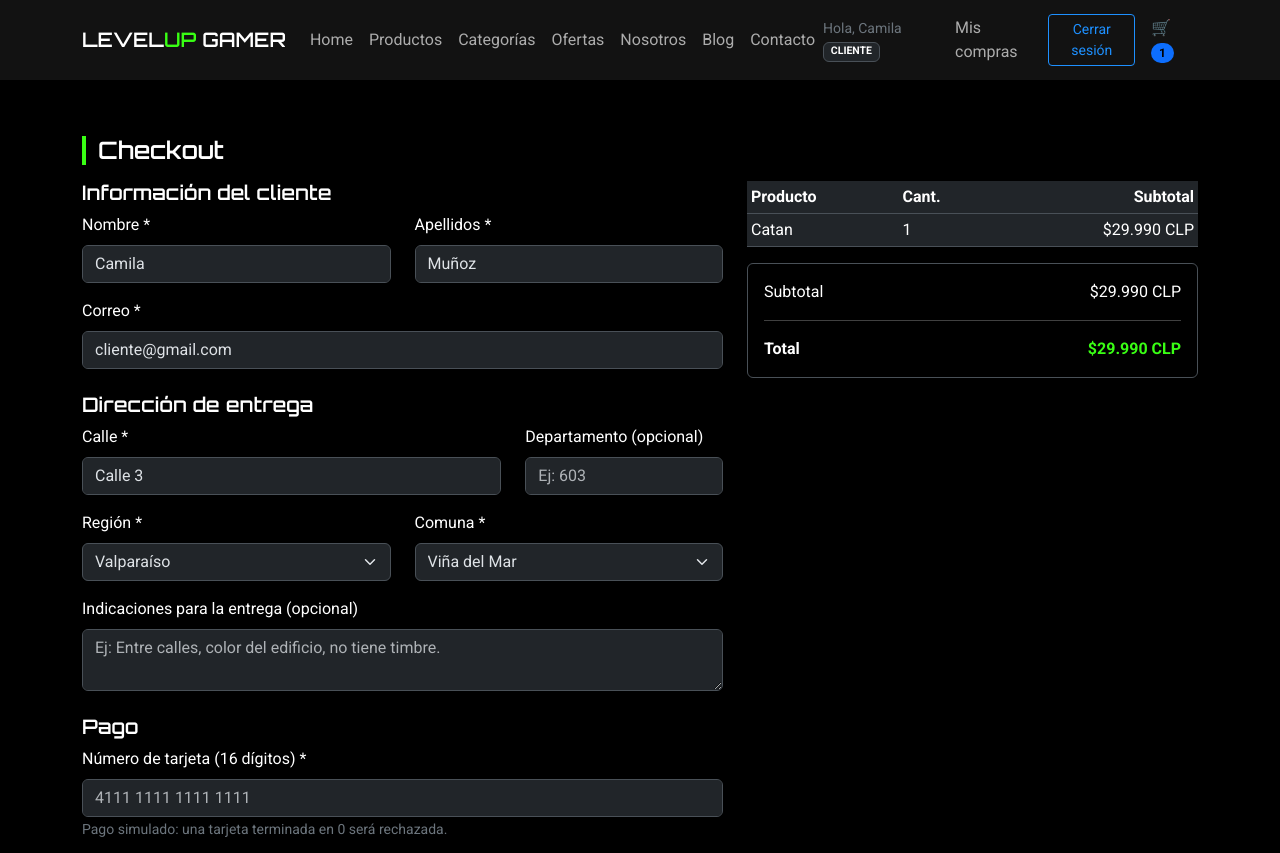
Test: Checkout contra la API › si el backend responde sin stock, se queda en el checkout con el mensaje
The width and height of the screenshot is (1280, 853).
In the field labelled "Número de tarjeta (16 dígitos) *": (402, 798) [82, 779, 723, 817], type "4111111111111111"
(page scrolled)
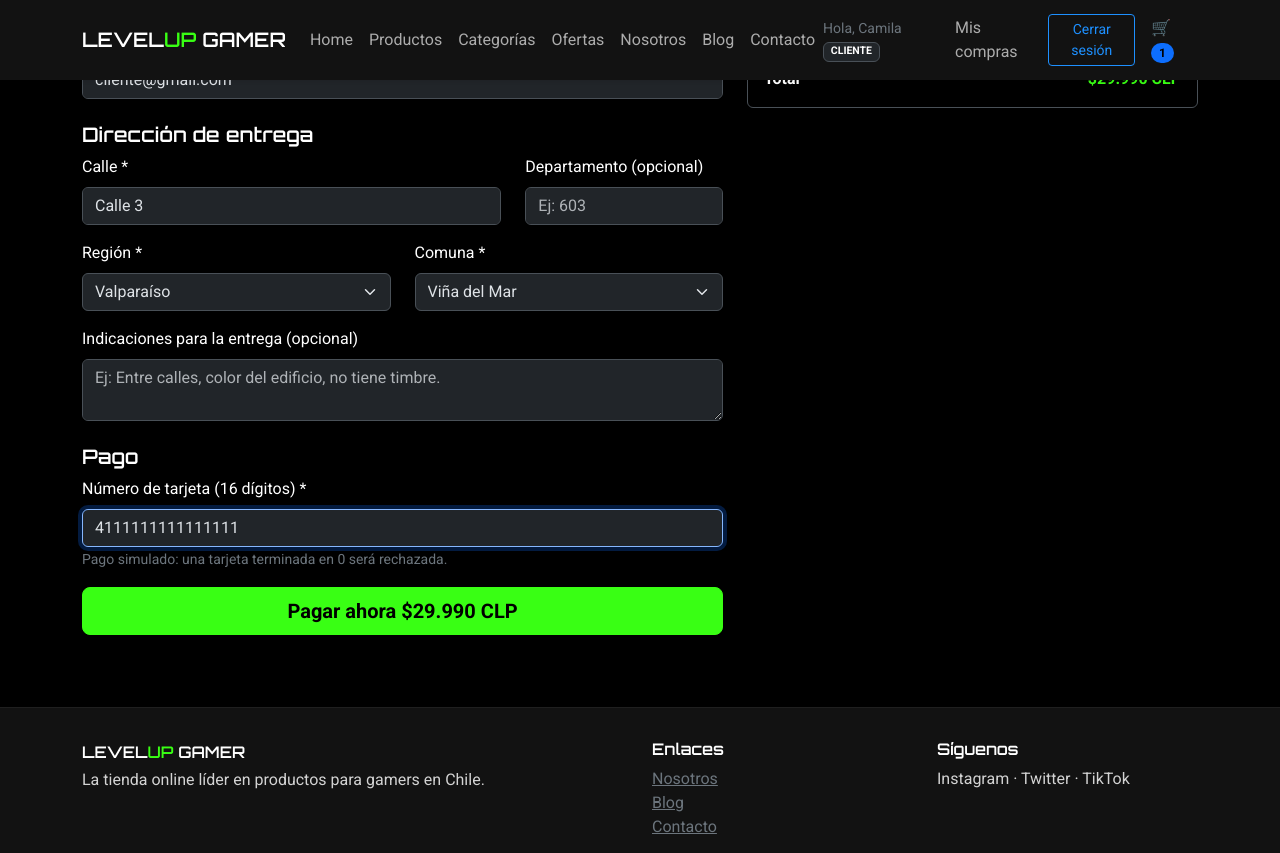
Click the button "Pagar ahora $29.990 CLP": (402, 611) [82, 587, 723, 635]
(page scrolled)
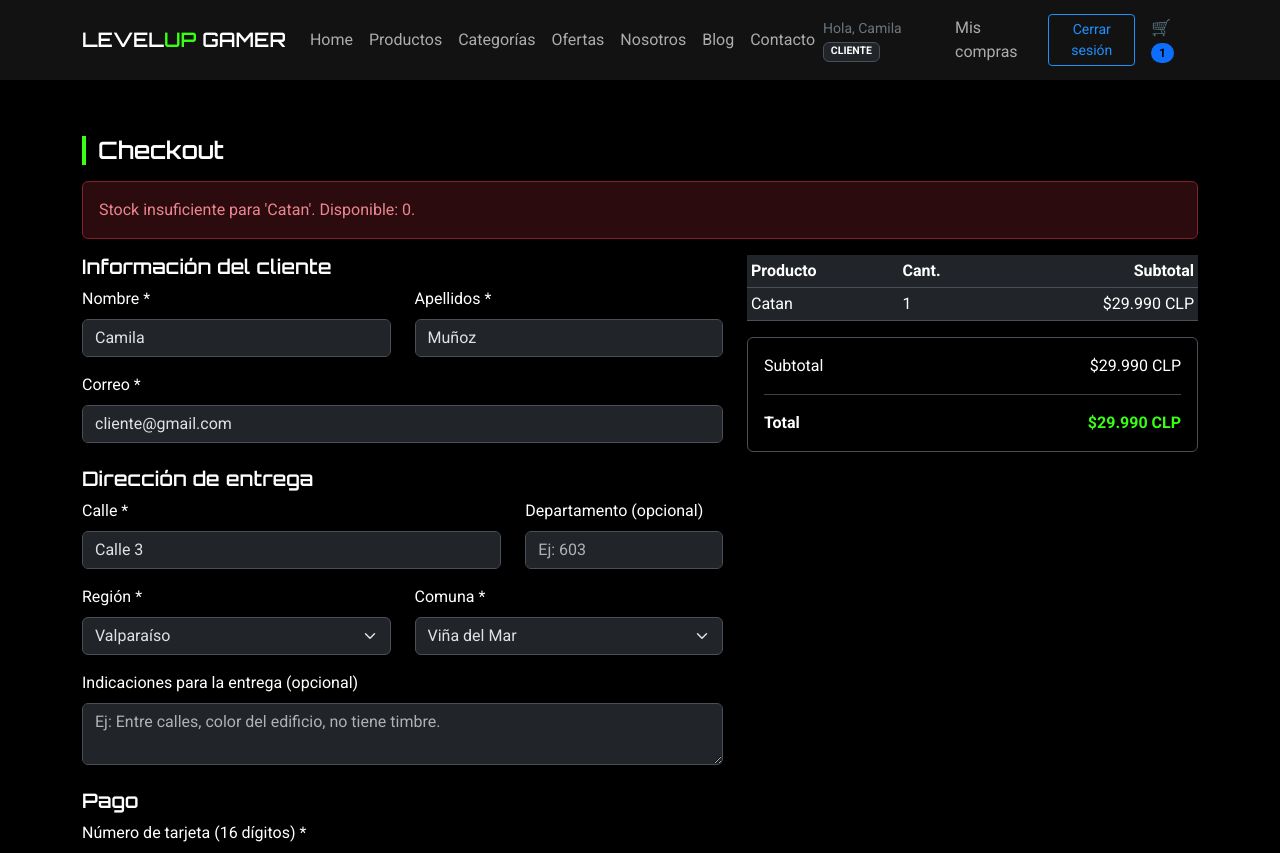
Expected: the heading "Checkout" is shown, [82, 136, 1198, 165]
Expected: the text "Stock insuficiente para 'Catan'. Disponible: 0." is shown, [82, 181, 1198, 239]
